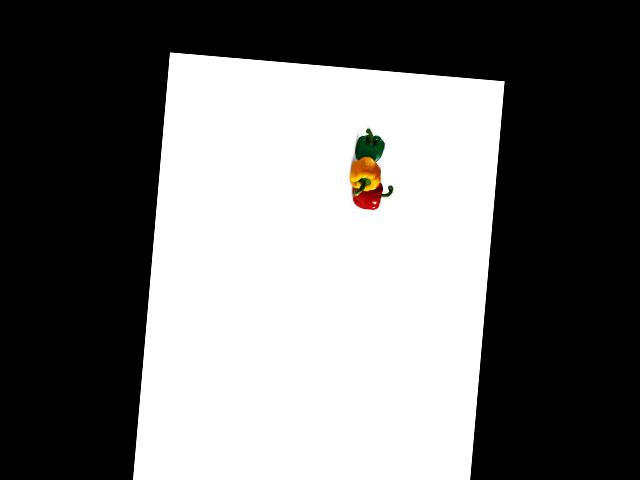bell_pepper: (351, 128, 388, 166)
